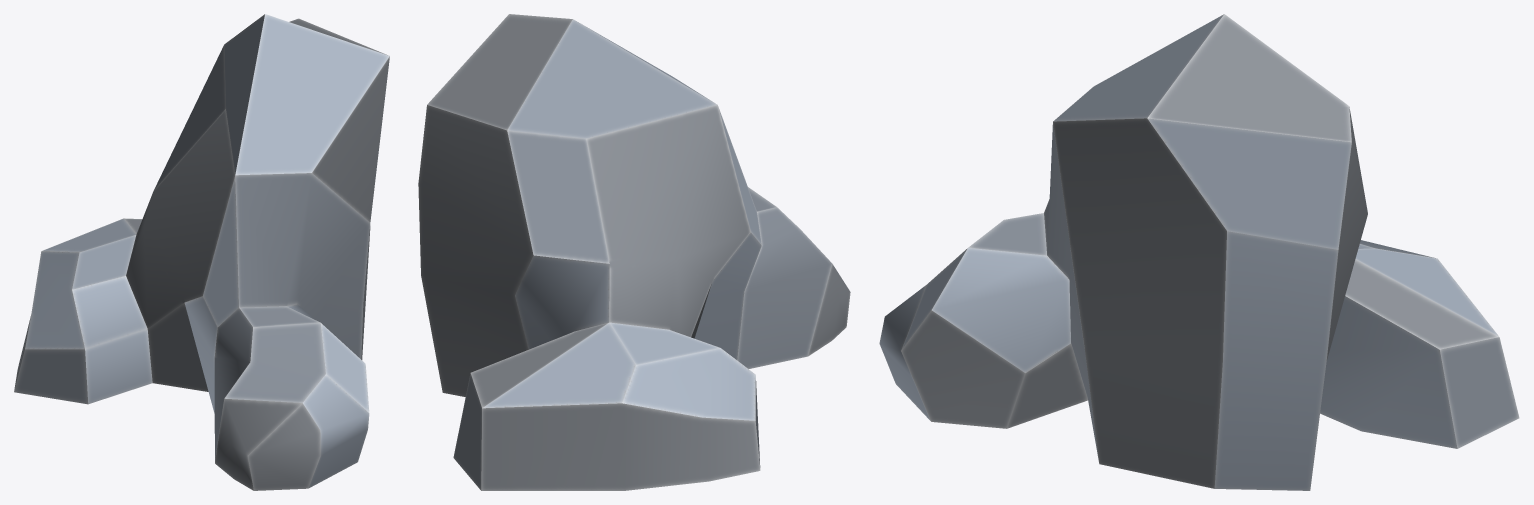
File: Rock_Mesh_03.fbx
The picture shows the model from 3 angles, left to right: view 1: azimuth 30°, elevation 25°; view 2: azimuth 150°, elevation 25°; view 3: azimuth 270°, elevation 25°; orthographic projection. The views are drawn at different scales.
Visible parts, largest first — view 1: Rock_03; view 2: Rock_03; view 3: Rock_03.
Part boxes in pixels (<box>): Rock_03: <box>14,14,389,490</box>; Rock_03: <box>418,14,850,490</box>; Rock_03: <box>879,14,1519,490</box>.
Size of the model in its own units: 1.63 by 1.72 by 2.34.
